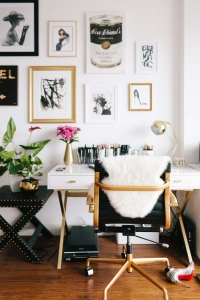chair: (86, 154, 172, 300)
